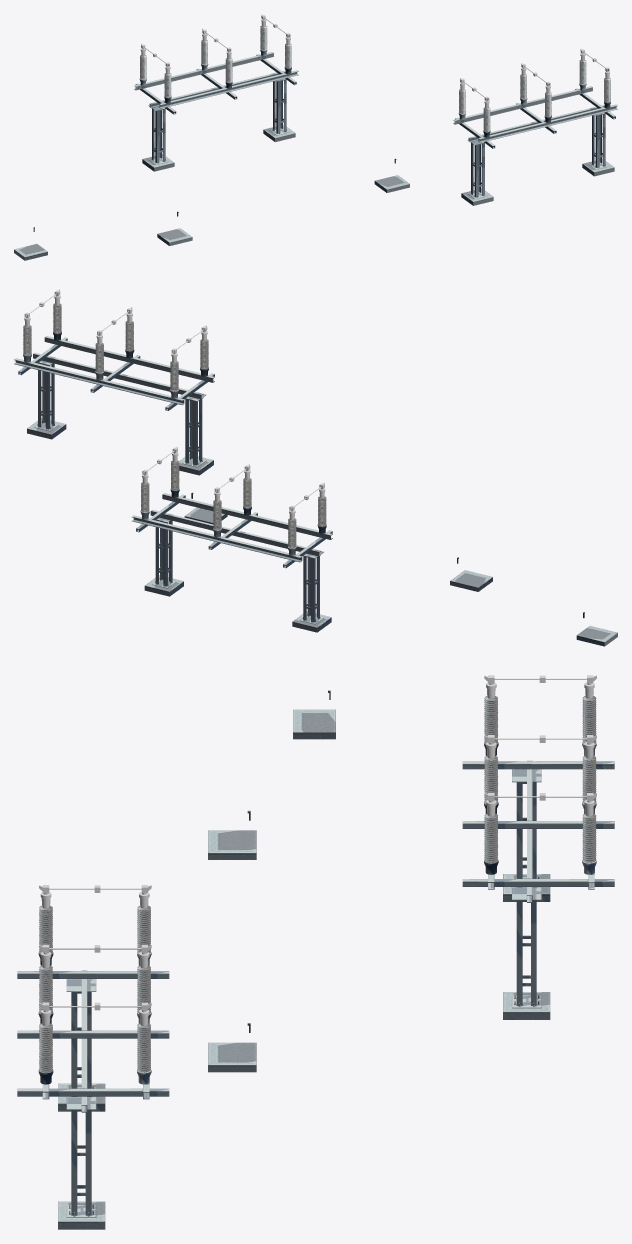
3 views of the same model, one above another, from view 1: azimuth 30°, elevation 25°; view 2: azimuth 150°, elevation 25°; view 3: azimuth 270°, elevation 25° (orthographic). The views are drawn at different scales.
Visible parts, largest first — view 1: 13-a1.4, 13-材质.17; view 2: 13-a1.4, 13-材质.17; view 3: 13-a1.4, 13-材质.17.
Part boxes in pixels (x1,y1,x2,y2): 13-a1.4: [14, 25, 617, 260]; 13-材质.17: [140, 14, 609, 108]; 13-a1.4: [14, 303, 617, 646]; 13-材质.17: [24, 289, 325, 519]; 13-a1.4: [17, 690, 614, 1229]; 13-材质.17: [39, 675, 596, 1025].
Bounding box in the file's own units: 16.08 × 3.32 × 7.83.
Materials: 2 (1 with a texture image).
